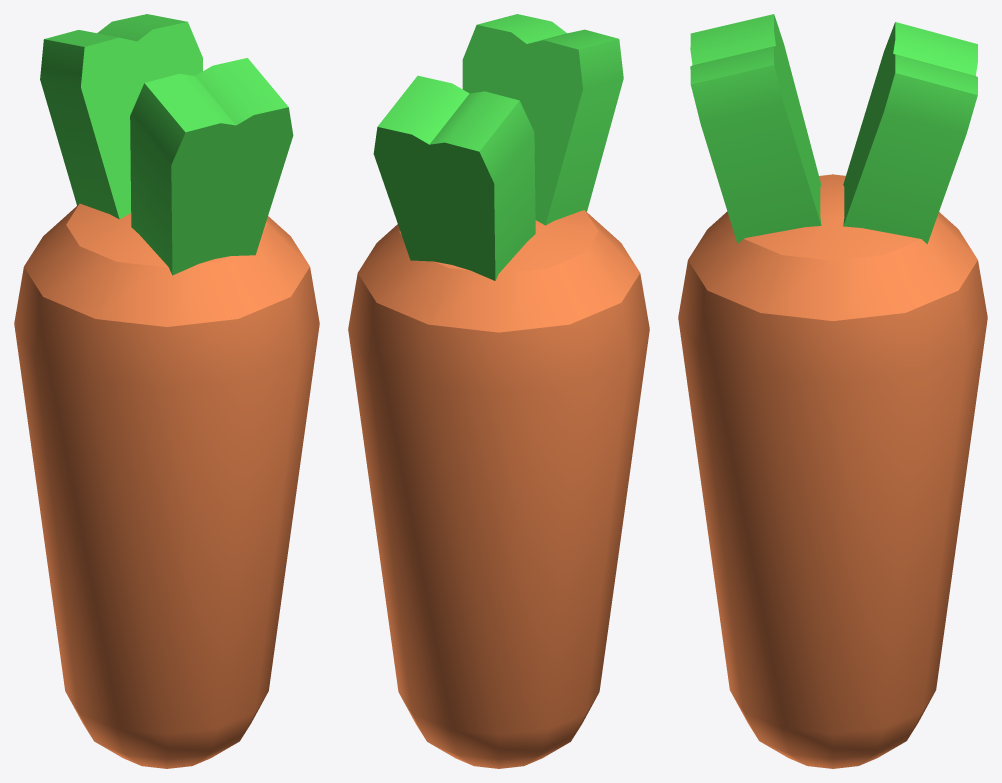
File: Carrot.fbx
3 views of the same model, side by side, from view 1: azimuth 30°, elevation 25°; view 2: azimuth 150°, elevation 25°; view 3: azimuth 270°, elevation 25° (orthographic). The views are drawn at different scales.
Visible parts, largest first — view 1: Carrot; view 2: Carrot; view 3: Carrot.
Boxes of the visible parts, left/top/right/bottom form: Carrot: left=14, top=14, right=319, bottom=768; Carrot: left=348, top=14, right=649, bottom=768; Carrot: left=678, top=14, right=987, bottom=768.
Size of the model in its own units: 39 by 99.7 by 39.
